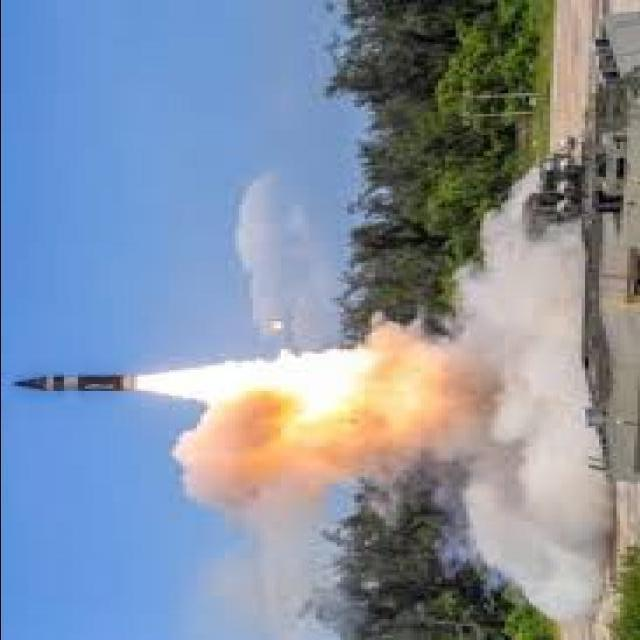missile: (10, 365, 137, 401)
